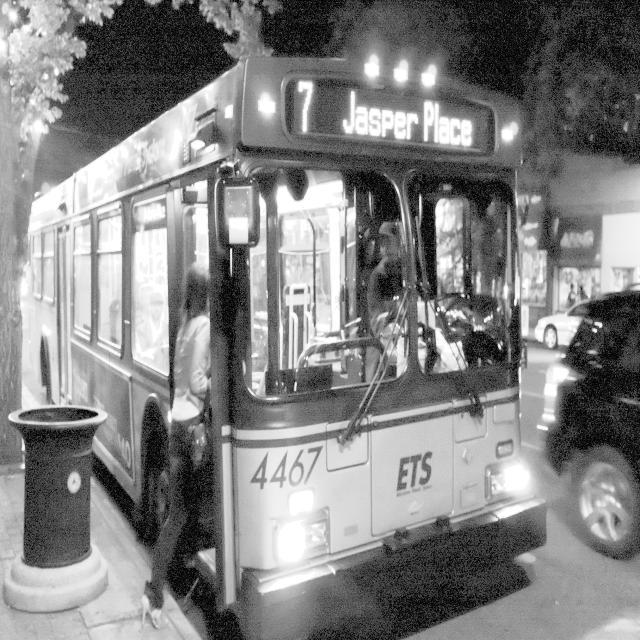Bus: (27, 44, 545, 613)
Car: (560, 279, 640, 571)
